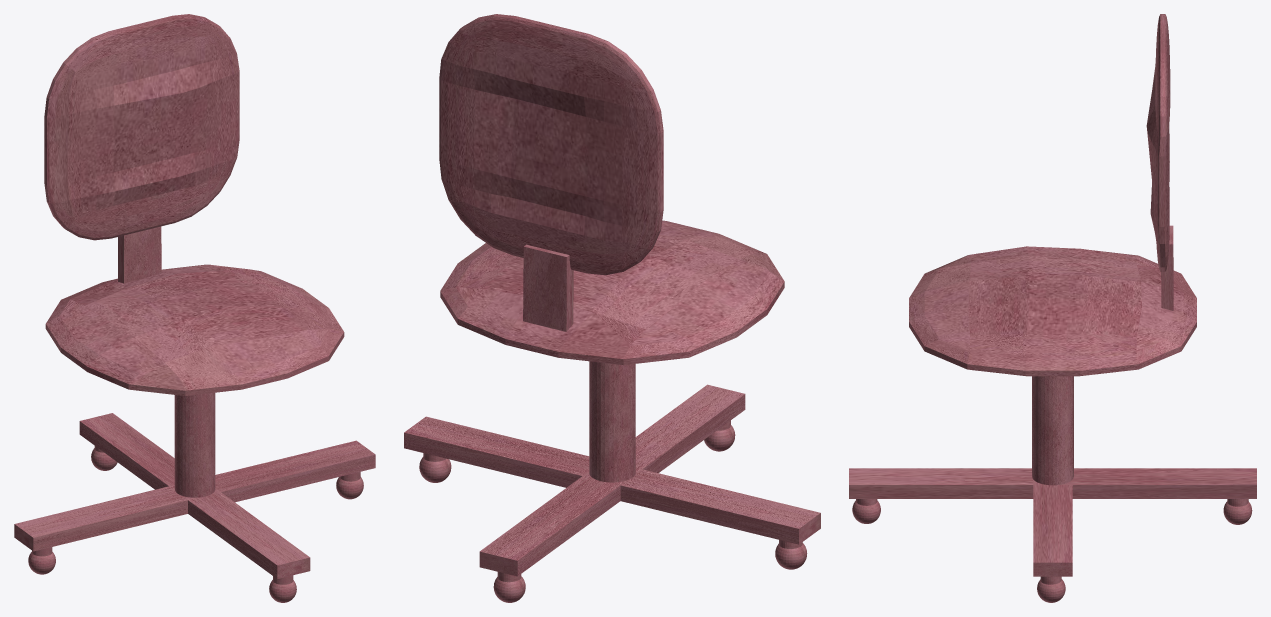
The model's file is sandalye.fbx.
The picture shows the model from 3 angles, left to right: view 1: azimuth 30°, elevation 25°; view 2: azimuth 150°, elevation 25°; view 3: azimuth 270°, elevation 25°; orthographic projection. The views are drawn at different scales.
Parts seen in each view (by area): view 1: Cube.012; view 2: Cube.012; view 3: Cube.012.
Boxes of the visible parts, x1,y1,x2,y2 form: Cube.012: [14, 14, 375, 602]; Cube.012: [404, 14, 820, 602]; Cube.012: [849, 14, 1256, 602].
Size of the model in its own units: 92.42 by 122 by 92.42.
